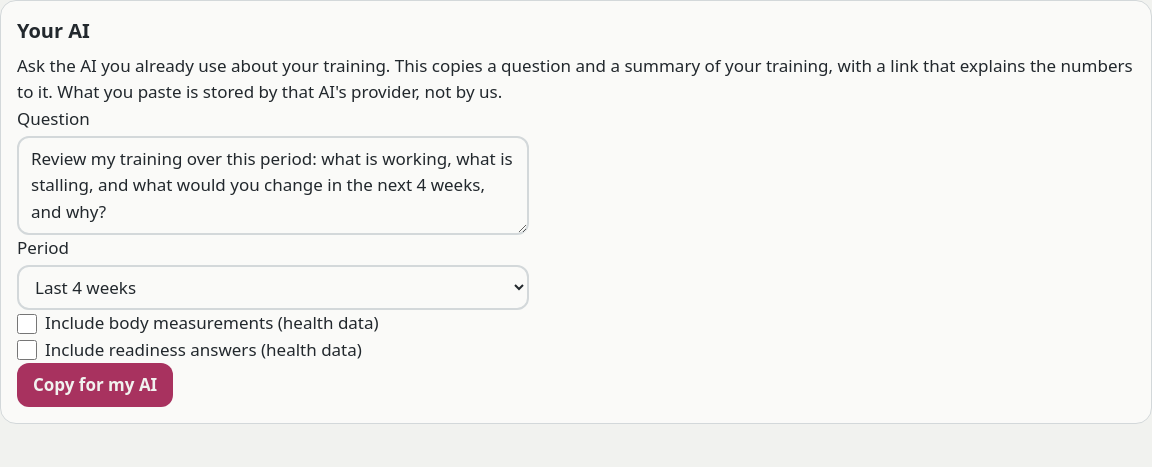
Test: the question, period and health data are the person’s choice
The image size is (1152, 467).
Replace the text in the text box labelled "Question" with "Am I improving?" at [273, 186], box [17,136,529,235]
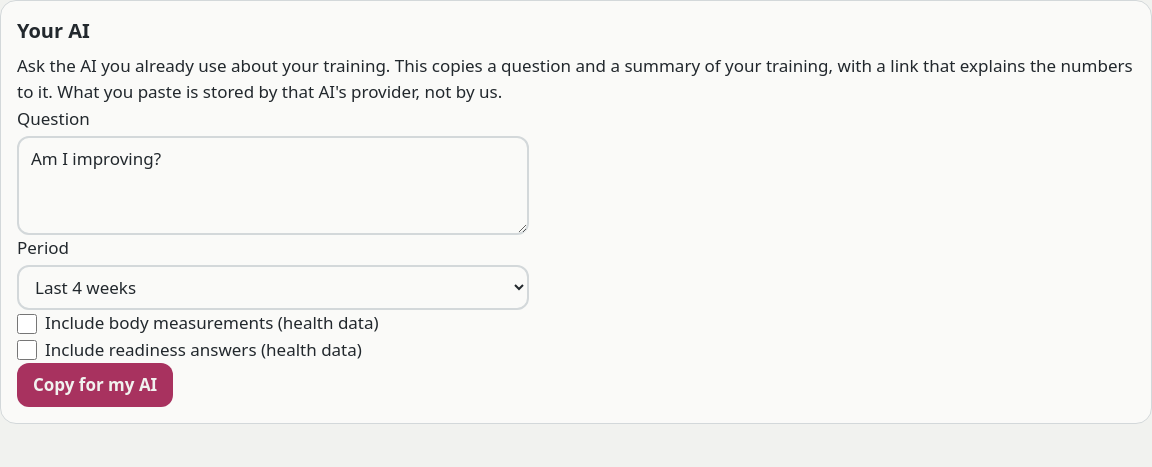
Select "Everything" in the dropdown labelled "Period" at [273, 288], box [17,265,529,310]
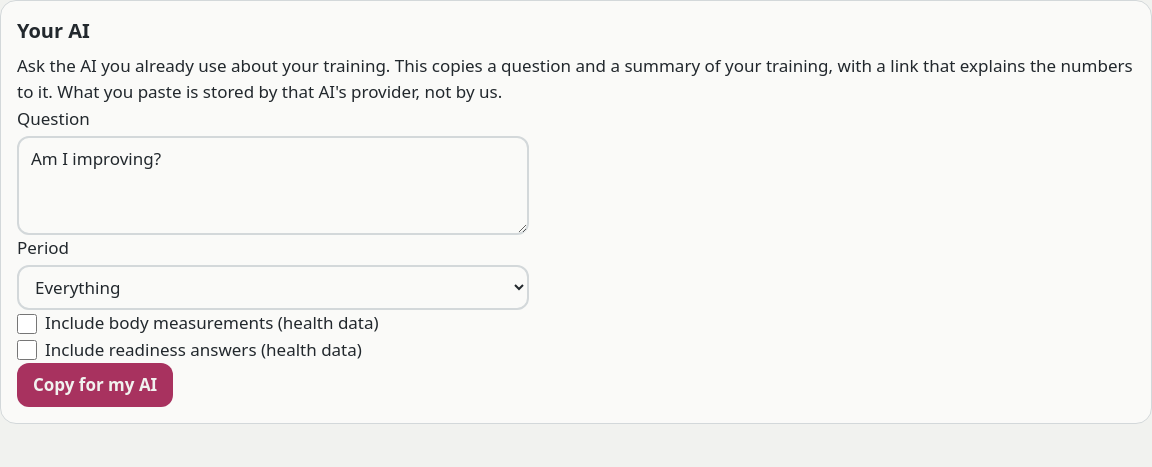
Click the checkbox labelled "Include body measurements (health data)".
click(27, 324)  # box [17,314,37,334]
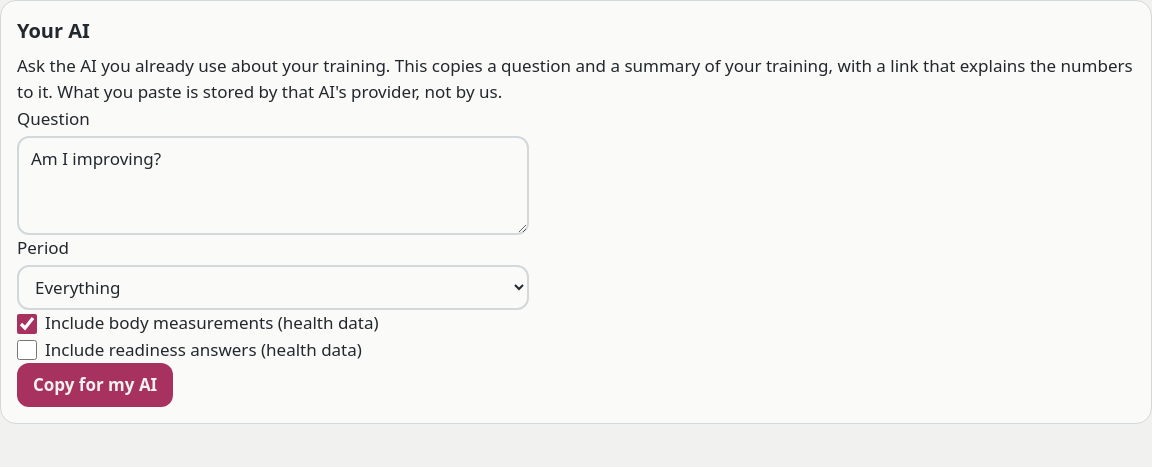
Click the checkbox labelled "Include readiness answers (health data)".
click(27, 350)  # box [17,340,37,360]
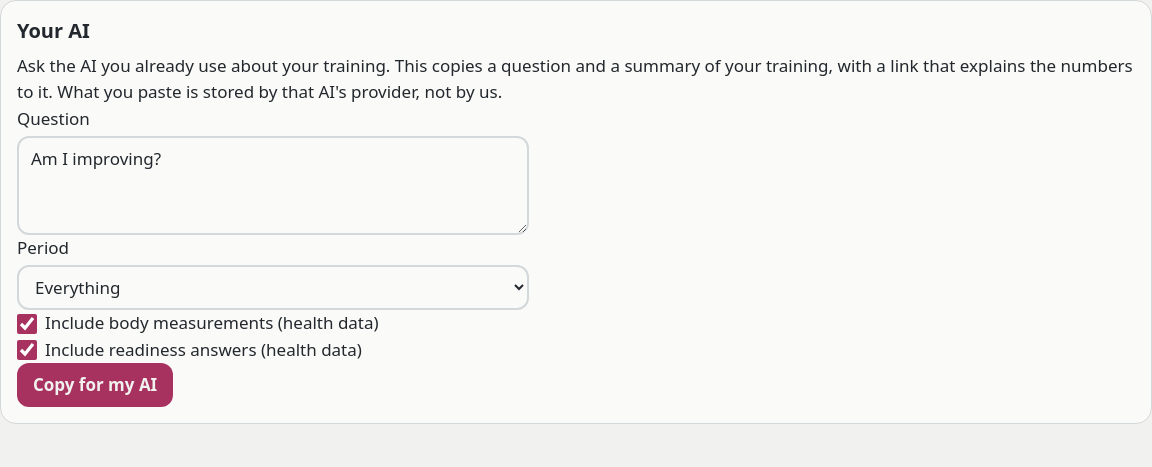
Click the button "Copy for my AI".
click(95, 385)  # box [17,363,173,407]
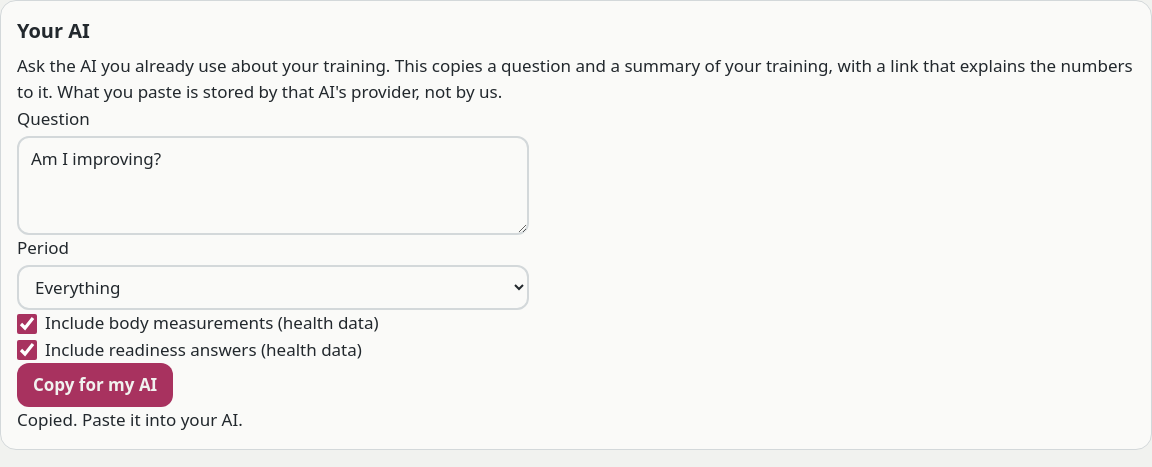
expect the text "Copied. Paste it into your AI." is shown: met, box [17,408,243,431]
